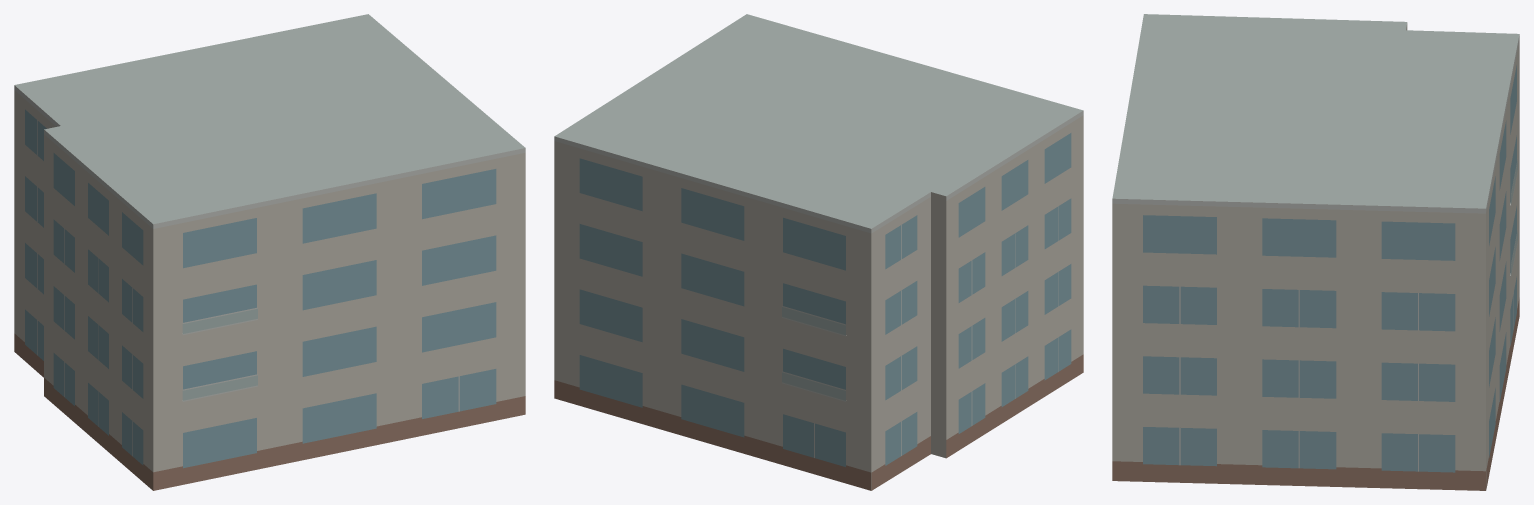
Rendered from survey-upis-32946145.glb.
The picture shows the model from 3 angles, left to right: view 1: azimuth 30°, elevation 25°; view 2: azimuth 150°, elevation 25°; view 3: azimuth 270°, elevation 25°; orthographic projection. The views are drawn at different scales.
Parts seen in each view (by area): view 1: survey-upis-32946145.tmp; view 2: survey-upis-32946145.tmp; view 3: survey-upis-32946145.tmp.
Part boxes in pixels (left/top/right/bottom): survey-upis-32946145.tmp: left=14, top=14, right=525, bottom=490; survey-upis-32946145.tmp: left=554, top=14, right=1083, bottom=490; survey-upis-32946145.tmp: left=1112, top=14, right=1519, bottom=490.
Size of the model in its own units: 20.28 by 13.7 by 17.92.
